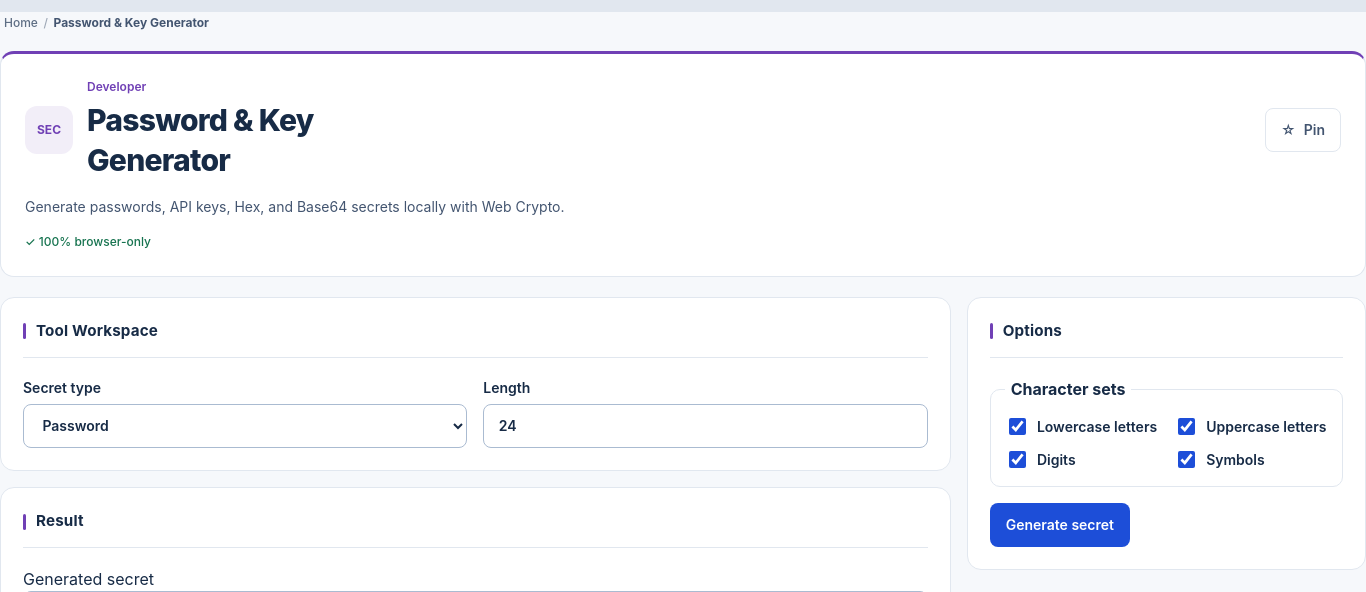
Test: SecretGeneratorPage › explains how to recover when secure randomness is unavailable
This screenshot has width=1366, height=592.
Click the button "Generate secret".
click(1060, 525)  # box [990,503,1130,547]
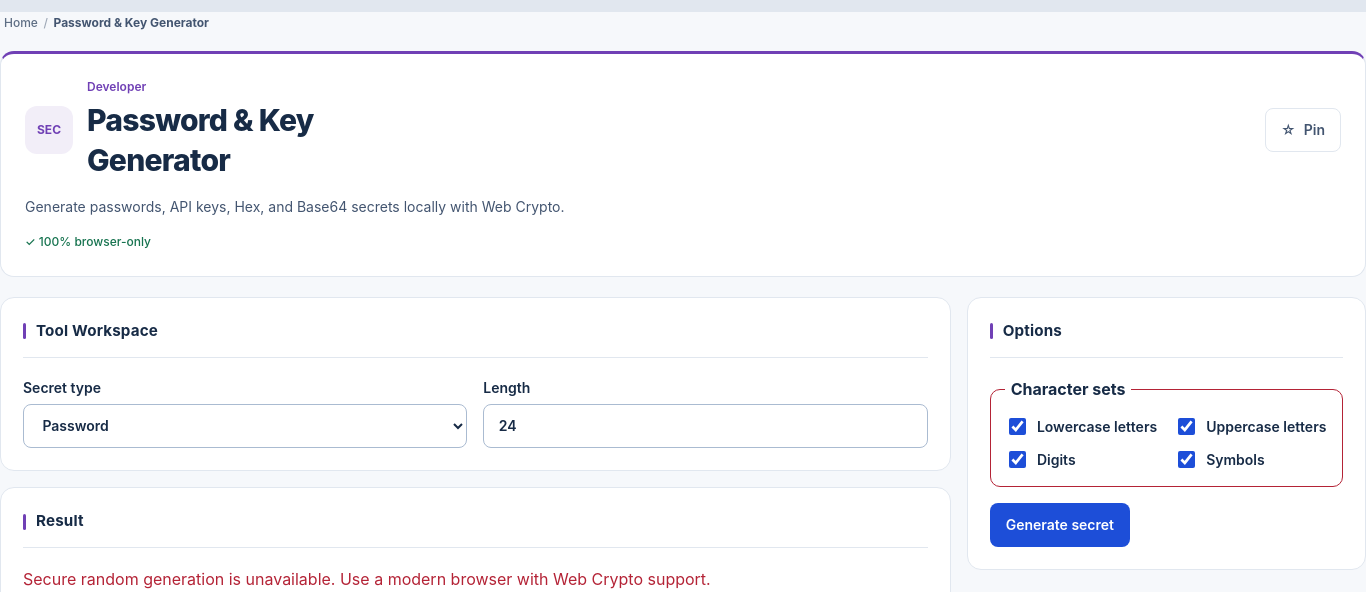
Expected: the message shows "Secure random generation is unavailable. Use a modern browser with Web Crypto support.", [23,569,711,589]
